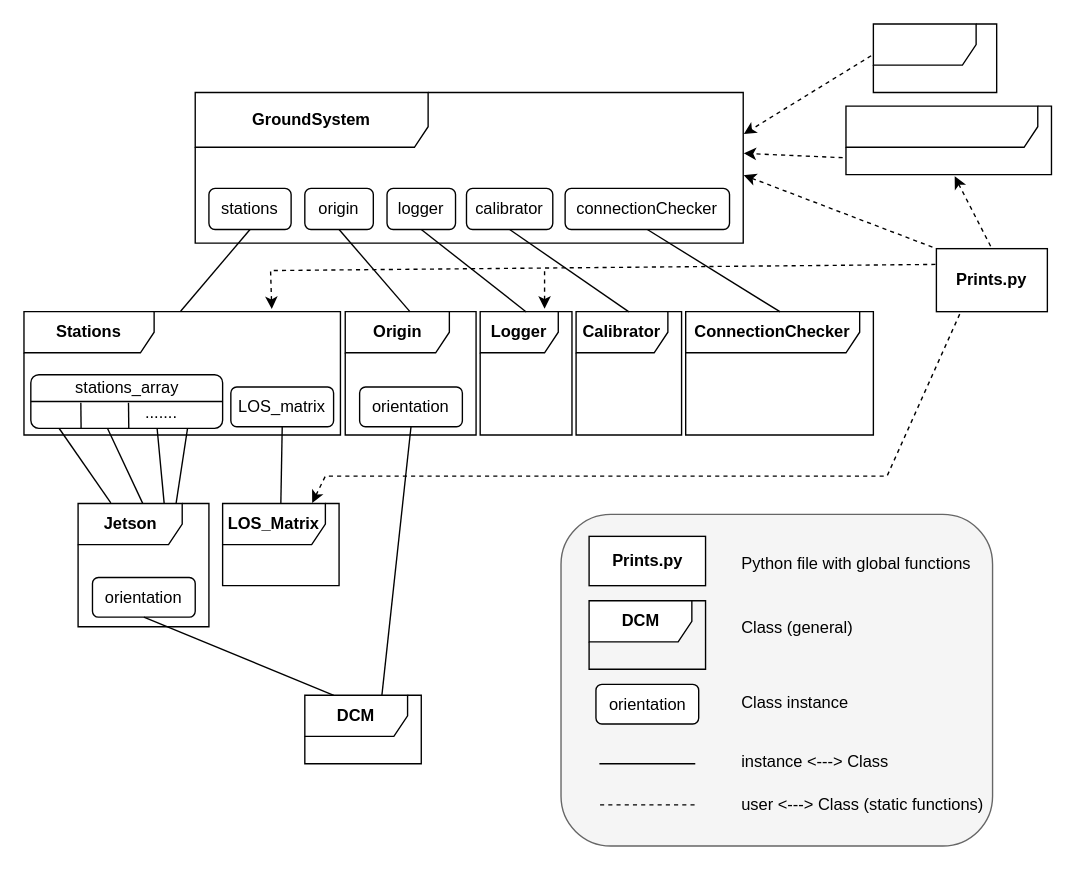
Some shapes in this 1075 by 870 pixel diagram are drawn without their labels. Each missing label, with the centre of its shape:
GuiSender: the point at 934,57
LeastSquaresSolver: the point at 948,140
